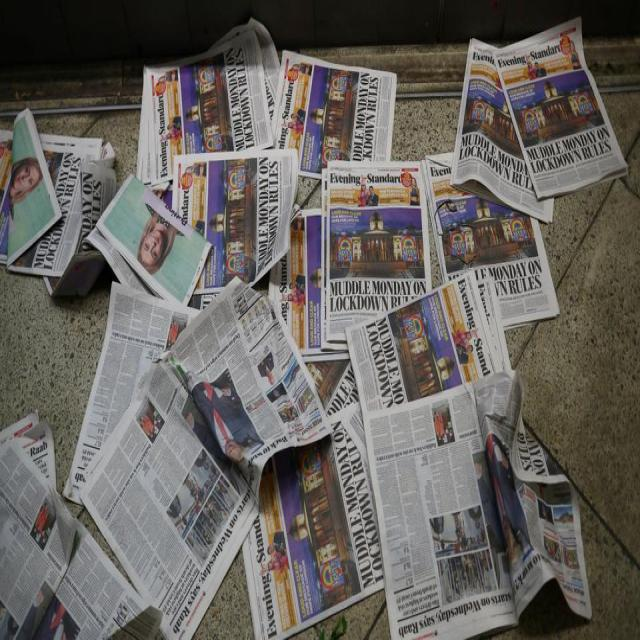newspaper: (321, 279, 592, 640), (68, 278, 319, 637), (423, 37, 623, 330), (124, 34, 294, 293), (286, 45, 428, 344), (0, 416, 160, 640), (0, 112, 119, 285)
